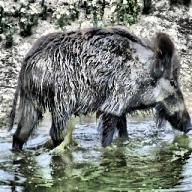boar: (6, 26, 191, 150)
